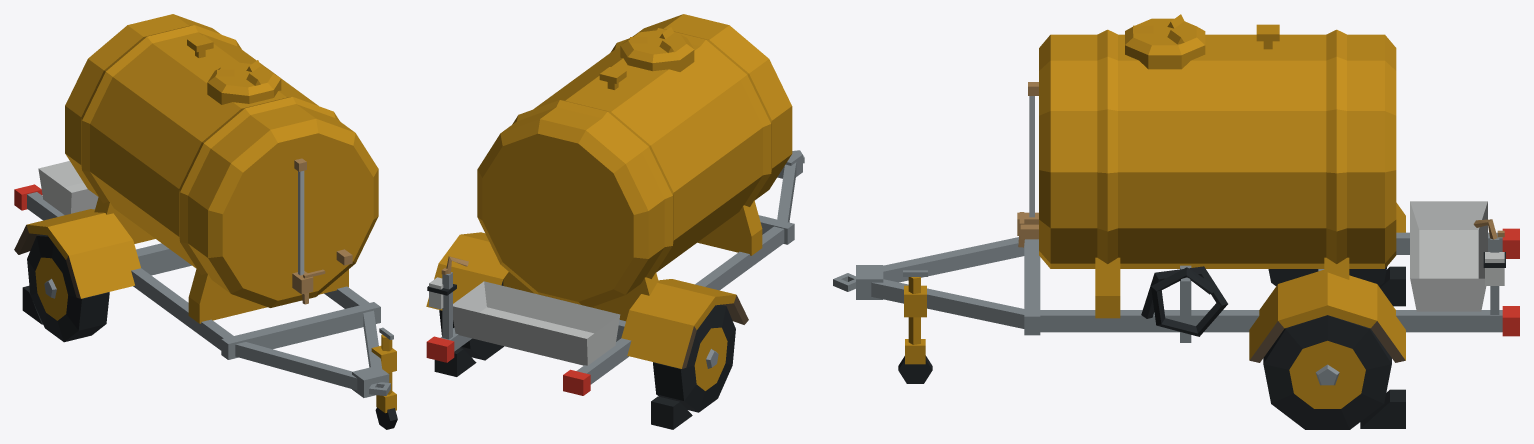
The model's file is water-bowser-f6768c.glb.
3 views of the same model, side by side, from view 1: azimuth 30°, elevation 25°; view 2: azimuth 150°, elevation 25°; view 3: azimuth 270°, elevation 25° (orthographic). The views are drawn at different scales.
Parts seen in each view (by area): view 1: bowser, wheel-l-mesh, ground-kit, chocks-mesh; view 2: bowser, wheel-l-mesh, chocks-mesh, wheel-r-mesh, soap-mesh; view 3: bowser, wheel-r-mesh, hose-mesh, chocks-mesh, ground-kit, wheel-l-mesh, soap-mesh.
Boxes of the visible parts, bbox=[...] form: bowser: bbox=[14, 14, 396, 397]; wheel-l-mesh: bbox=[27, 234, 109, 342]; ground-kit: bbox=[375, 327, 397, 429]; chocks-mesh: bbox=[22, 286, 42, 324]; bowser: bbox=[426, 14, 804, 395]; wheel-l-mesh: bbox=[653, 304, 735, 412]; chocks-mesh: bbox=[434, 348, 692, 429]; wheel-r-mesh: bbox=[439, 280, 503, 360]; soap-mesh: bbox=[427, 277, 456, 309]; bowser: bbox=[833, 14, 1519, 362]; wheel-r-mesh: bbox=[1263, 315, 1391, 429]; hose-mesh: bbox=[1141, 266, 1227, 336]; chocks-mesh: bbox=[1360, 266, 1405, 428]; ground-kit: bbox=[898, 270, 932, 383]; wheel-l-mesh: bbox=[1268, 266, 1387, 286]; soap-mesh: bbox=[1483, 252, 1505, 285].
Size of the model in its own units: 1.5 by 1.62 by 3.
